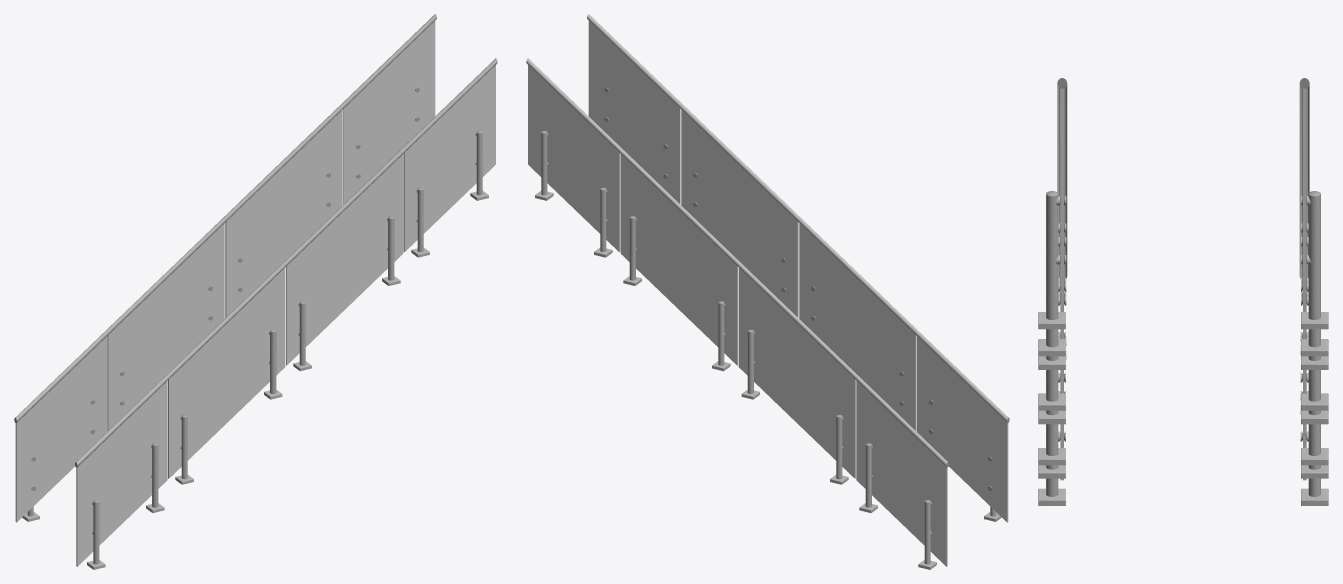
Rendered from Straight_Railing_Lo-Post_Round.gltf.
3 views of the same model, side by side, from view 1: azimuth 30°, elevation 25°; view 2: azimuth 150°, elevation 25°; view 3: azimuth 270°, elevation 25° (orthographic). The views are drawn at different scales.
Visible parts, largest first — view 1: Box011, Box010, Generic Models 11 Generic Models 11 [8762451]010, Generic Models 11 Generic Models 11 [8762451]009; view 2: Box010, Box011, Generic Models 11 Generic Models 11 [8762451]009, Generic Models 11 Generic Models 11 [8762451]010; view 3: LS103 & LS116 - Circum Round Post Material LS Material [9209 (×6), Generic Models 11 Generic Models 11 [8762451]009, Generic Models 11 Generic Models 11 [8762451]010, Box010, Box011, CSQ001-US - Surface Mount Weldment Part [8723797]154, CSQ001-US - Surface Mount Weldment Part [8723797]155, CSQ001-US - Surface Mount Weldment Part [8723797]159, CSQ001-US - Surface Mount Weldment Part [8723797]164, CSQ001-US - Surface Mount Weldment Part [8723797]163, CSQ001-US - Surface Mount Weldment Part [8723797]153, CSQ001-US - Surface Mount Weldment Part [8723797]151 (+3 smaller).
Part boxes in pixels (<box>): Box011: <box>15,21,435,522</box>; Box010: <box>76,65,495,566</box>; Generic Models 11 Generic Models 11 [8762451]010: <box>75,58,497,467</box>; Generic Models 11 Generic Models 11 [8762451]009: <box>14,14,436,423</box>; Box010: <box>588,21,1008,522</box>; Box011: <box>528,65,947,566</box>; Generic Models 11 Generic Models 11 [8762451]009: <box>526,58,948,467</box>; Generic Models 11 Generic Models 11 [8762451]010: <box>587,14,1009,423</box>; LS103 & LS116 - Circum Round Post Material LS Material [9209 (×6): <box>1046,195,1320,455</box>; Generic Models 11 Generic Models 11 [8762451]009: <box>1299,78,1309,278</box>; Generic Models 11 Generic Models 11 [8762451]010: <box>1057,78,1067,278</box>; Box010: <box>1060,88,1063,480</box>; Box011: <box>1303,88,1306,480</box>; CSQ001-US - Surface Mount Weldment Part [8723797]154: <box>1038,312,1065,329</box>; CSQ001-US - Surface Mount Weldment Part [8723797]155: <box>1038,448,1065,465</box>; CSQ001-US - Surface Mount Weldment Part [8723797]159: <box>1301,448,1328,465</box>; CSQ001-US - Surface Mount Weldment Part [8723797]164: <box>1301,312,1328,329</box>; CSQ001-US - Surface Mount Weldment Part [8723797]163: <box>1301,339,1328,356</box>; CSQ001-US - Surface Mount Weldment Part [8723797]153: <box>1038,339,1065,356</box>; CSQ001-US - Surface Mount Weldment Part [8723797]151: <box>1038,393,1065,410</box>.
Bounding box in the file's own units: 3.79 × 3.52 × 1.13.
